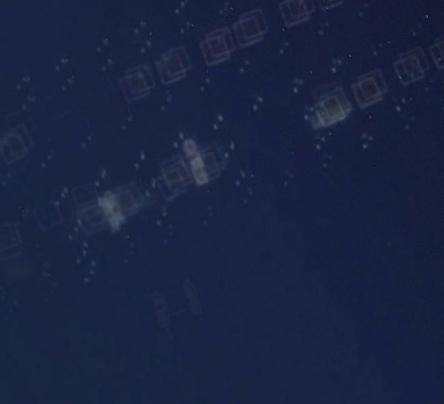square: (304, 76, 354, 131), (191, 21, 240, 67), (387, 40, 433, 89), (350, 62, 391, 110), (114, 60, 160, 101), (151, 44, 198, 84), (228, 4, 270, 45)
